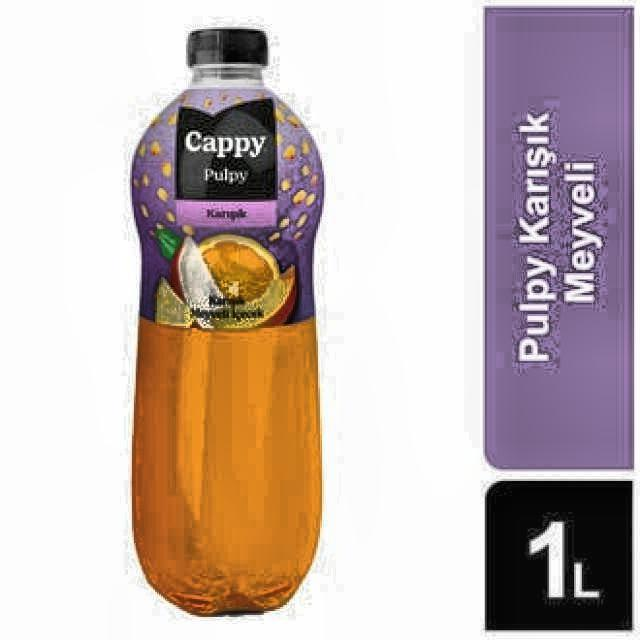plastic: (129, 28, 326, 619)
